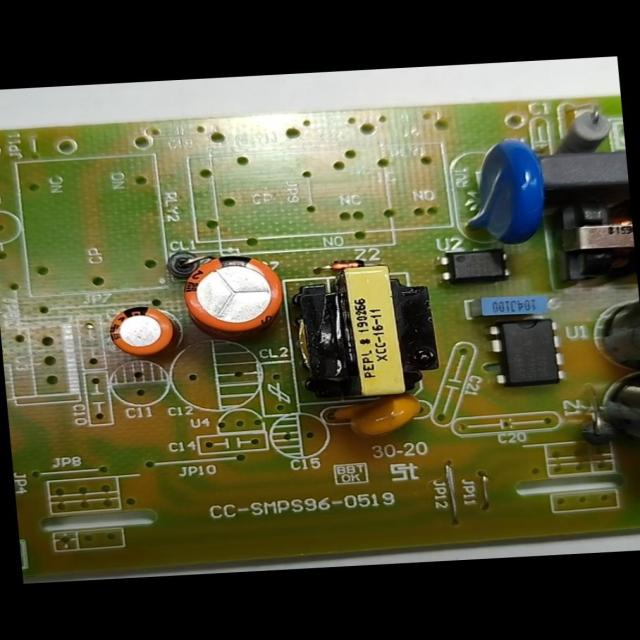Cap1: (177, 251, 288, 337)
Cap2: (104, 303, 177, 359)
Cap3: (589, 283, 639, 377)
Cap4: (596, 370, 640, 464)
MOSFET: (490, 318, 564, 386)
Mov: (453, 135, 542, 246)
Resistor: (551, 106, 618, 153)
Transformer: (292, 262, 444, 404), (546, 193, 636, 289)
